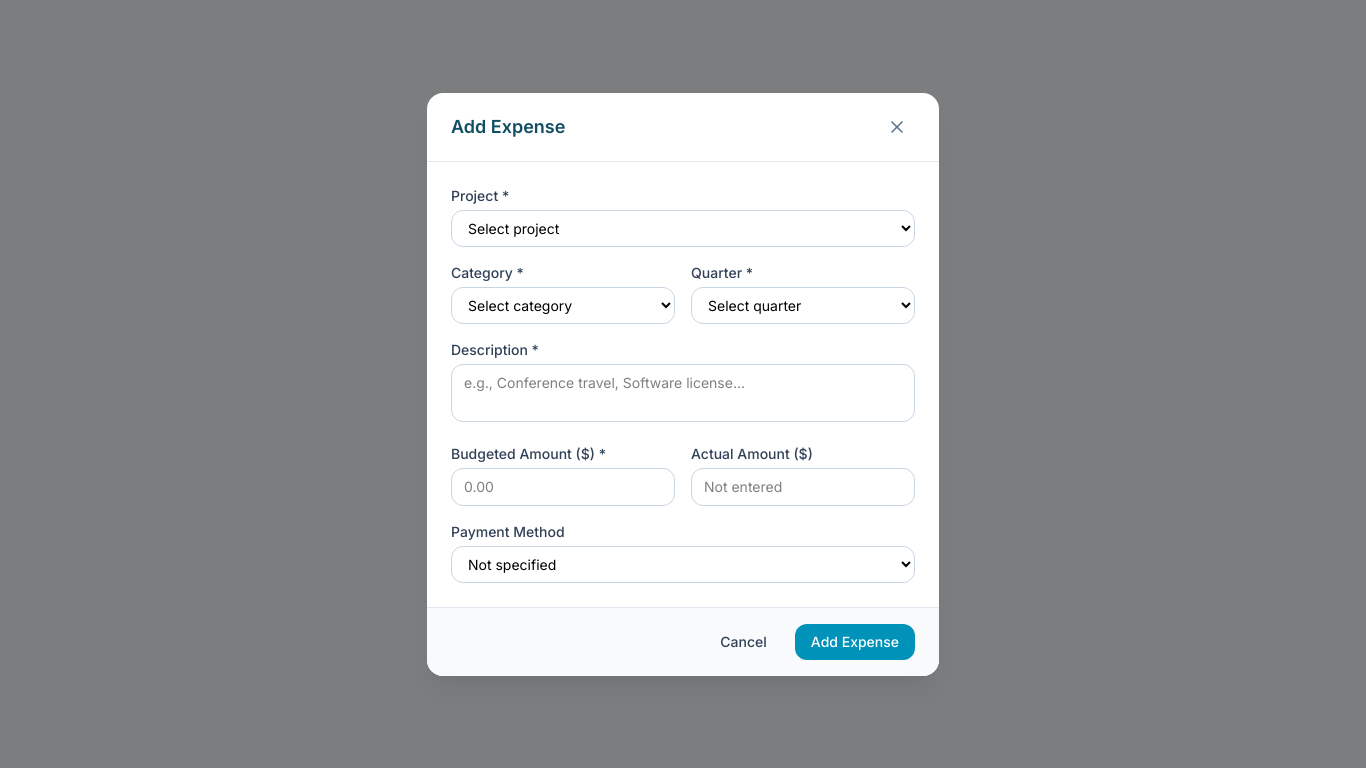
ExpenseFormModal › validates required fields
Click the button "Add Expense" at (855, 642), box [795, 624, 915, 660]
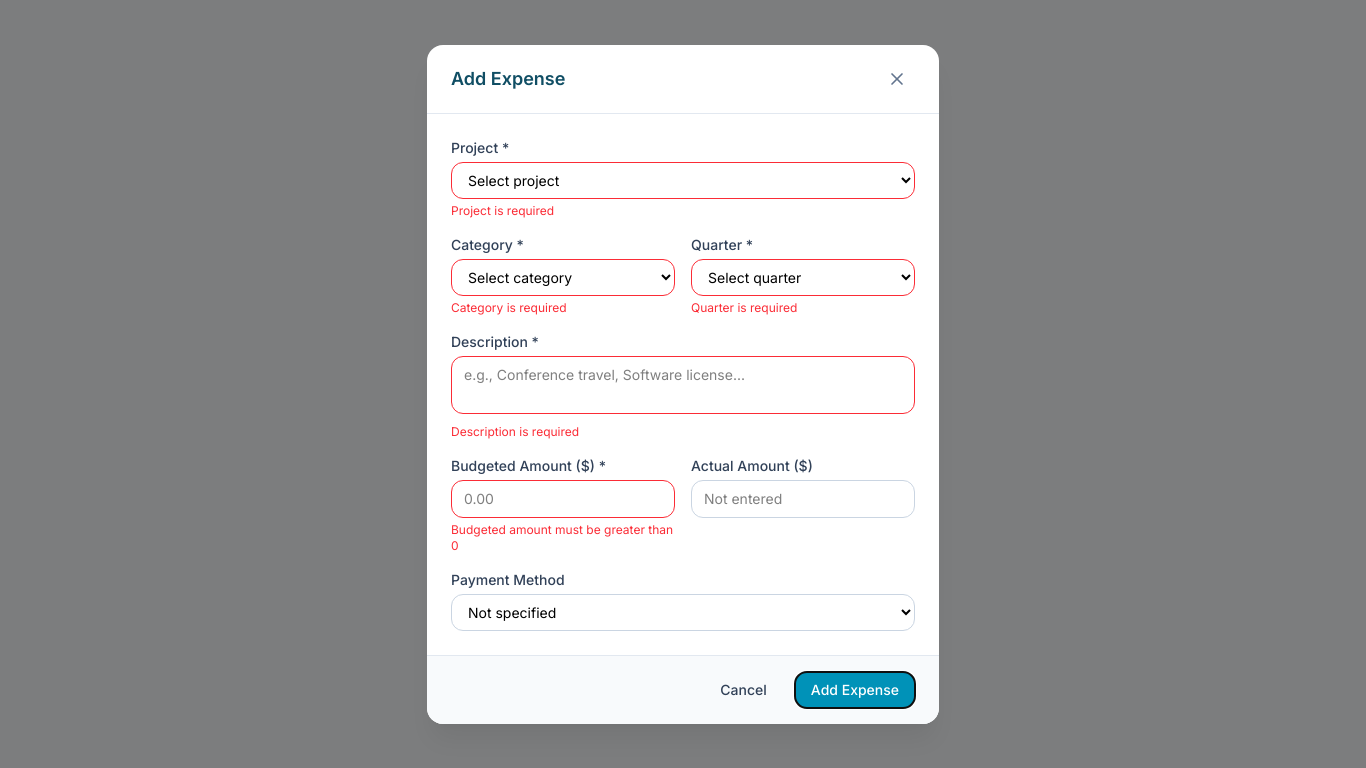
Expected: the text "Project is required" is shown, [451, 202, 554, 218]
Expected: the text "Category is required" is shown, [451, 300, 567, 314]
Expected: the text "Quarter is required" is shown, [691, 300, 797, 314]
